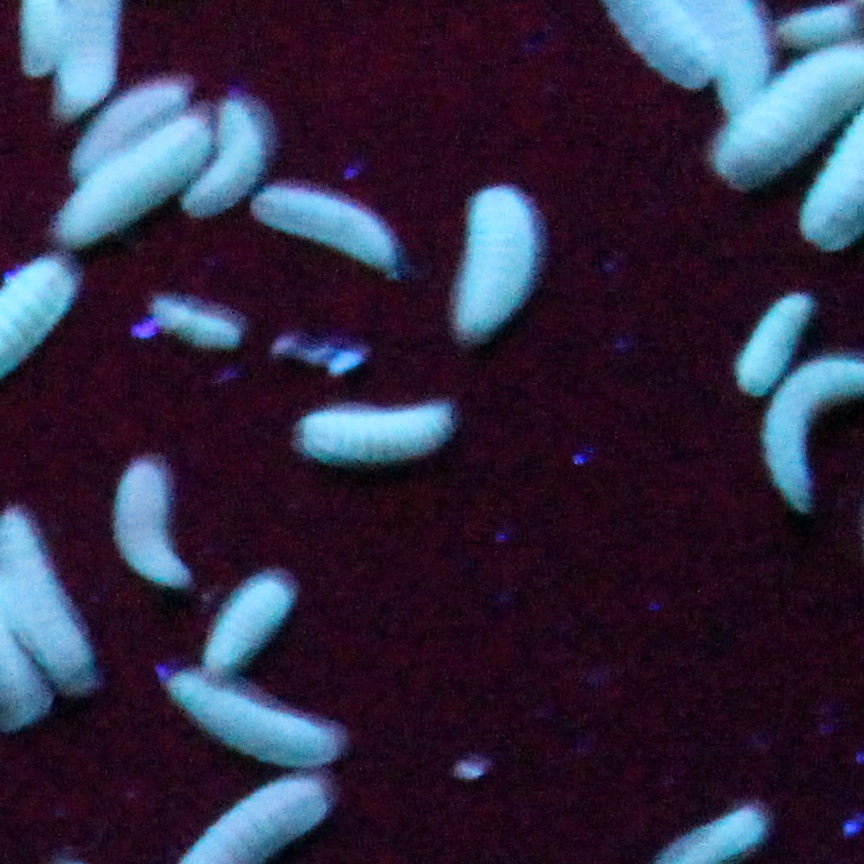larve: (60, 117, 209, 242), (169, 674, 334, 769), (456, 188, 534, 333), (256, 188, 392, 271), (73, 83, 184, 174), (115, 462, 190, 588), (186, 102, 262, 219), (300, 405, 452, 461), (205, 578, 292, 675), (738, 293, 809, 395), (153, 299, 239, 346)
